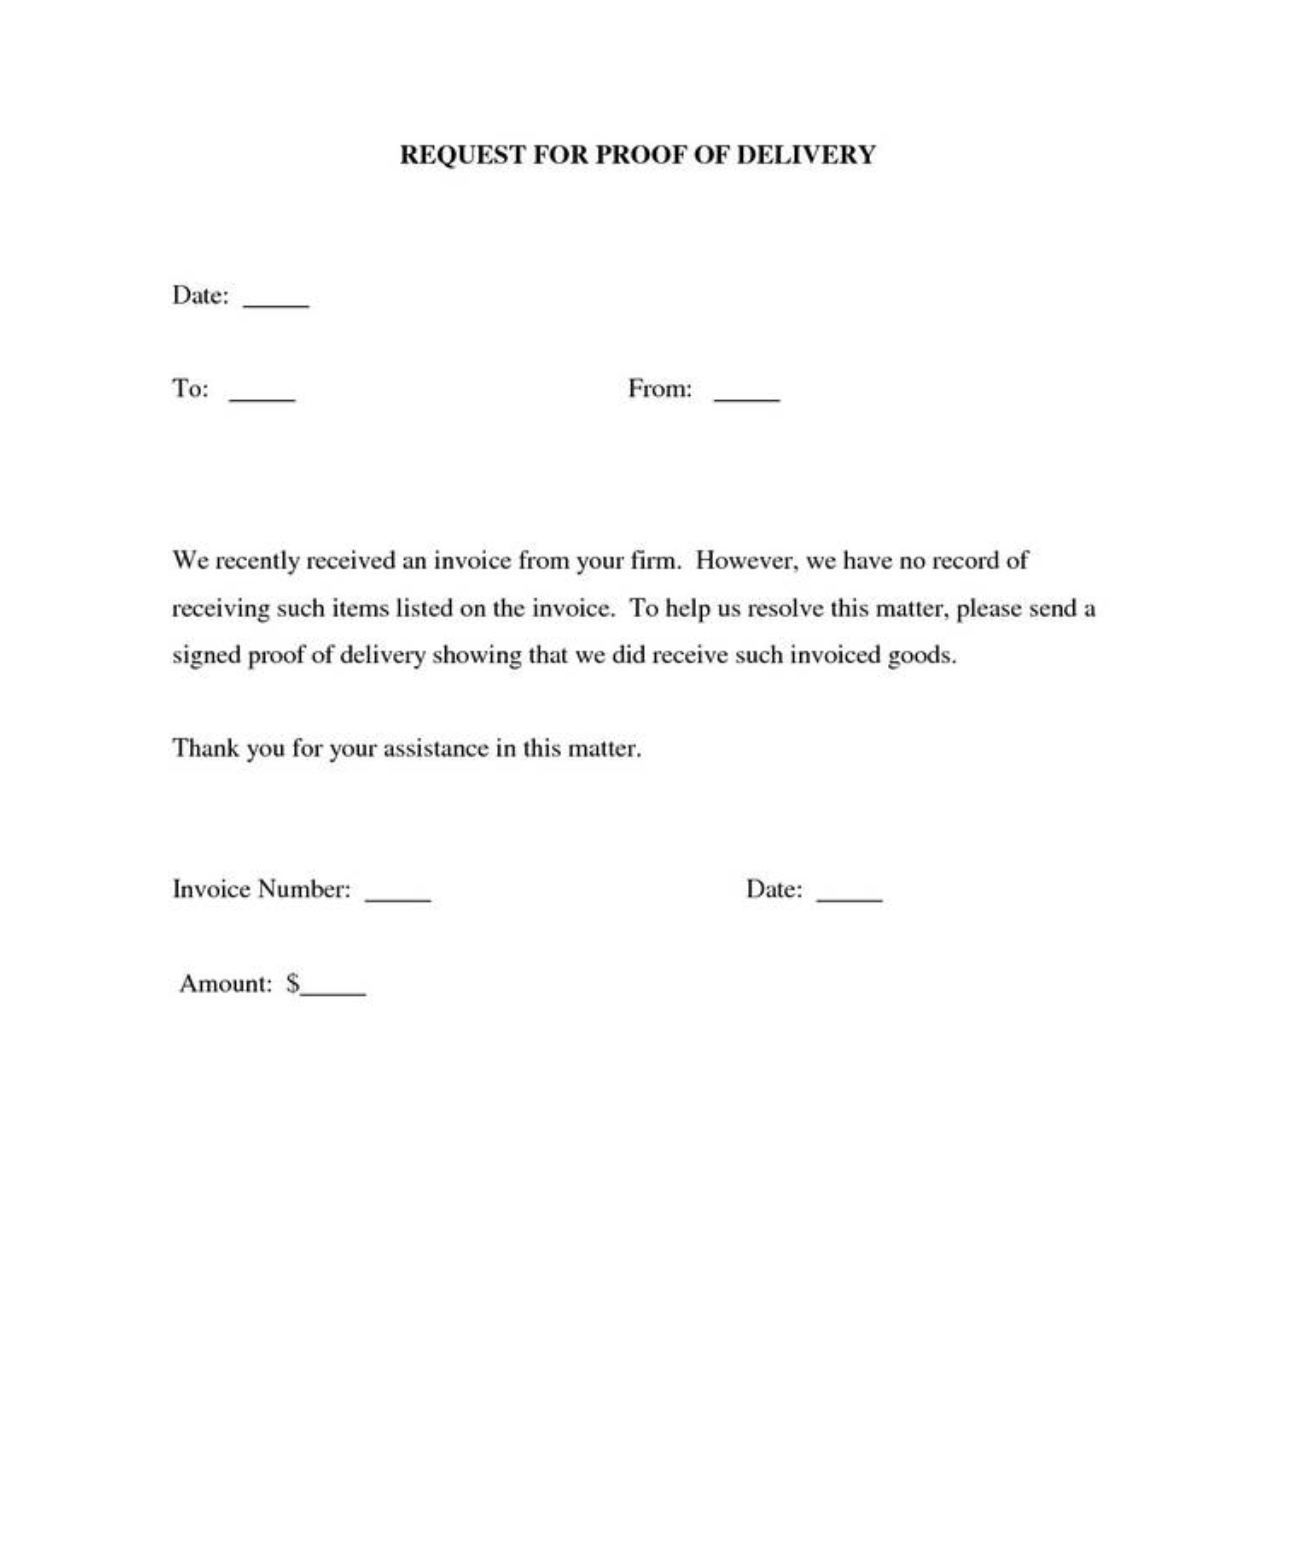textline: (702, 388, 813, 416), (804, 883, 900, 910), (359, 885, 451, 913), (299, 976, 382, 1006), (232, 284, 322, 309), (223, 388, 309, 412)
